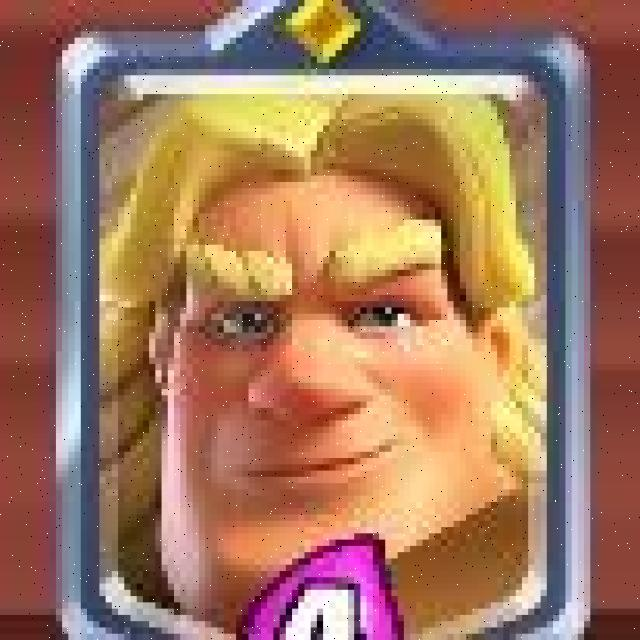Golden_Knight: (63, 31, 582, 640)
